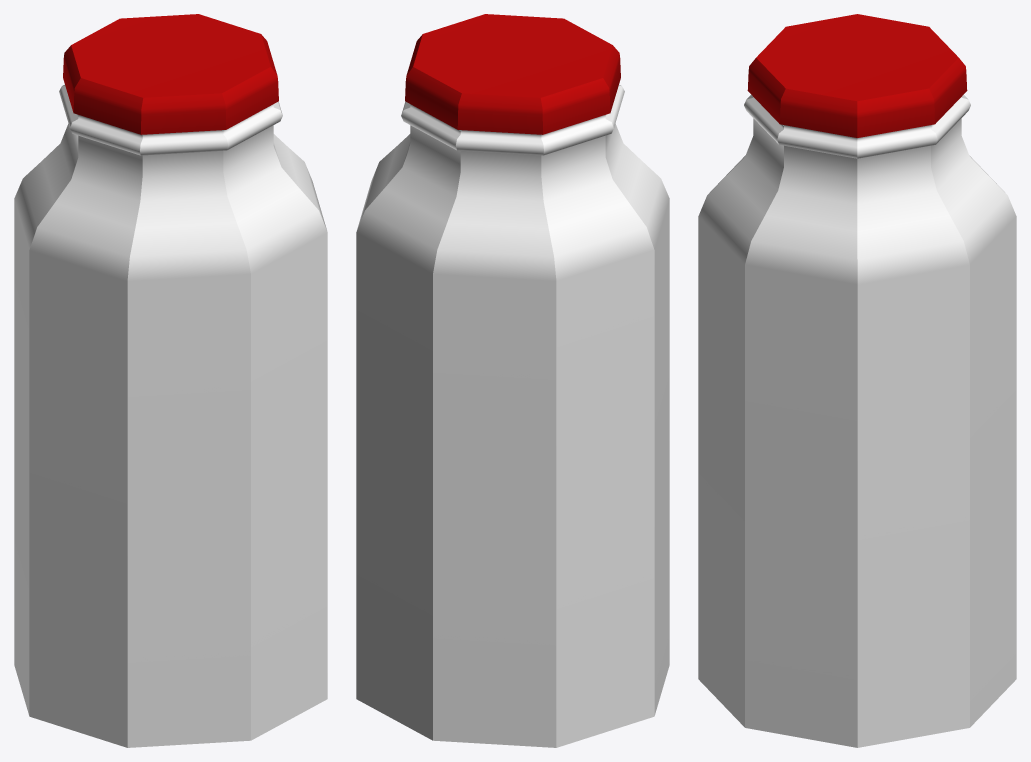
File: MilkBottle.fbx
3 renders of one model, left to right at view 1: azimuth 30°, elevation 25°; view 2: azimuth 150°, elevation 25°; view 3: azimuth 270°, elevation 25°, orthographic.
Parts seen in each view (by area): view 1: pCylinder1; view 2: pCylinder1; view 3: pCylinder1.
Part boxes in pixels (x1,y1,x2,y2): pCylinder1: (14, 14, 327, 747); pCylinder1: (356, 14, 669, 747); pCylinder1: (698, 14, 1016, 747).
Size of the model in its own units: 1.66 by 3.51 by 1.63.
